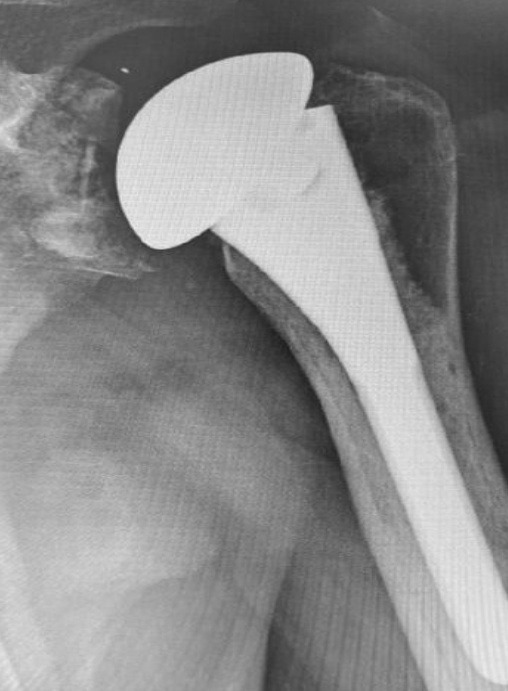Shoulder - Anotomical - Stryker: (98, 47, 394, 261)
